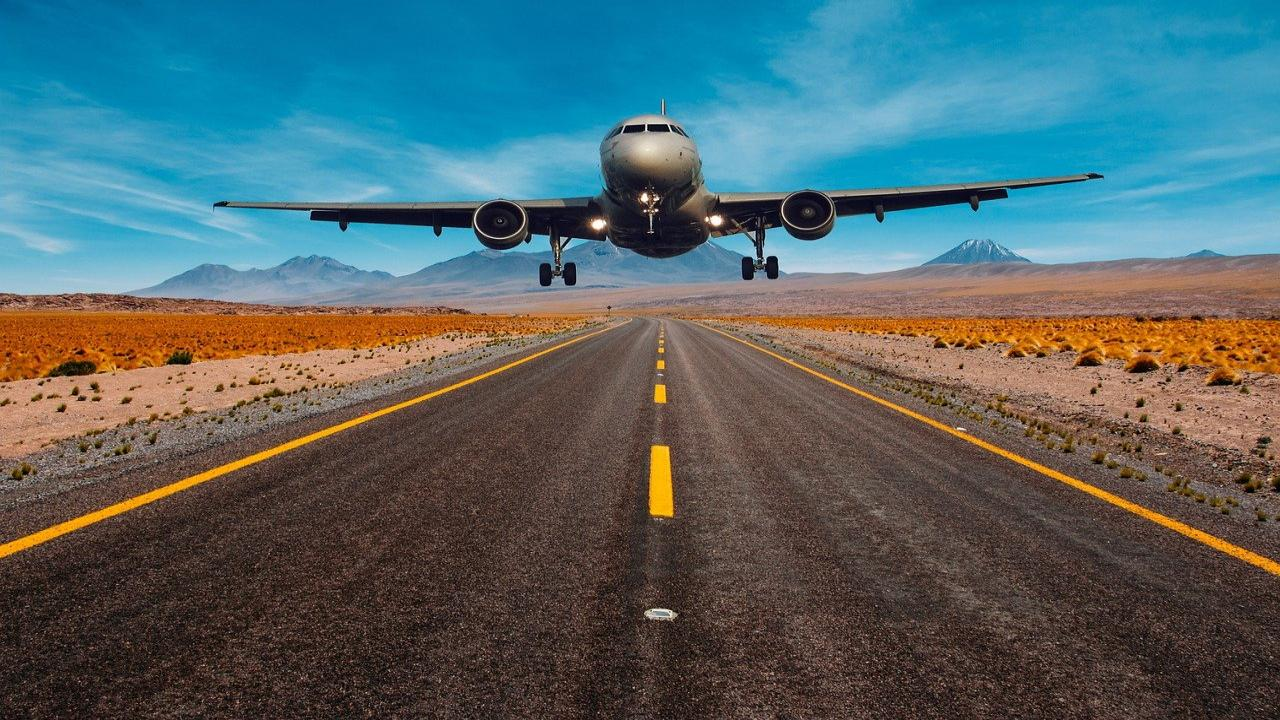Airplane: (188, 91, 1117, 298)
